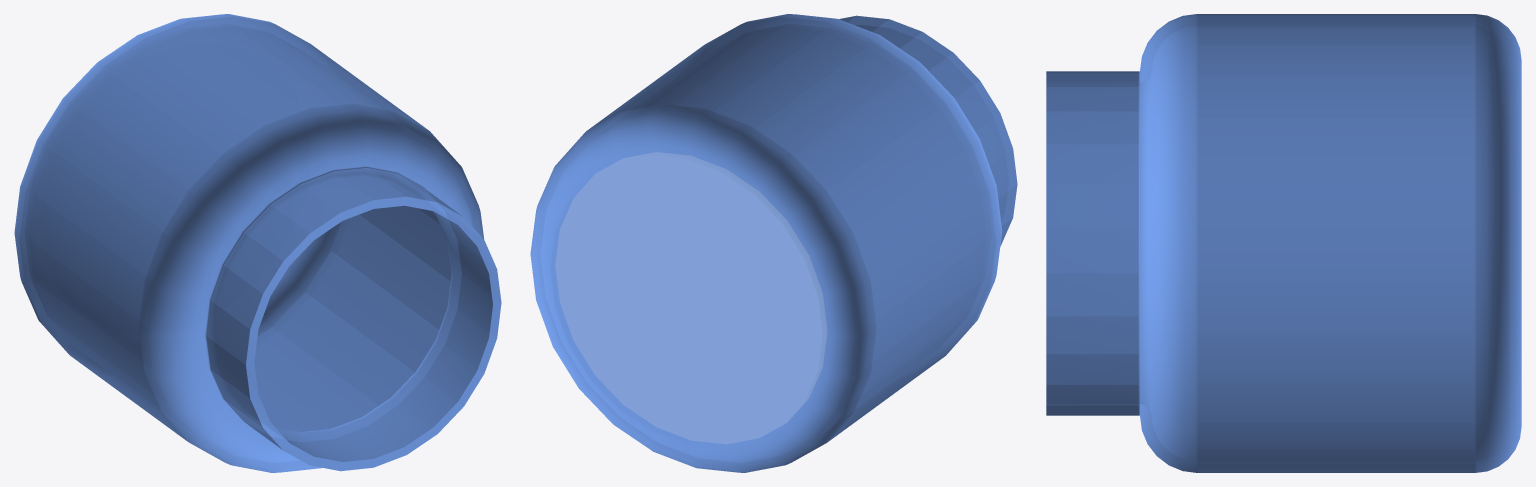
Rendered from model_scale.obj.
3 renders of one model, left to right at view 1: azimuth 30°, elevation 25°; view 2: azimuth 150°, elevation 25°; view 3: azimuth 270°, elevation 25°, orthographic. The views are drawn at different scales.
Visible parts, largest first — view 1: mesh1_mesh1-geometry; view 2: mesh1_mesh1-geometry, mesh2_mesh2-geometry; view 3: mesh1_mesh1-geometry.
Part boxes in pixels (x1=…): mesh1_mesh1-geometry: x1=14, y1=14, x2=501, y2=472; mesh1_mesh1-geometry: x1=530, y1=14, x2=1017, y2=472; mesh2_mesh2-geometry: x1=555, y1=152, x2=826, y2=443; mesh1_mesh1-geometry: x1=1046, y1=14, x2=1521, y2=472.
Bounding box in the file's own units: 0.1182 × 0.1182 × 0.1219.
